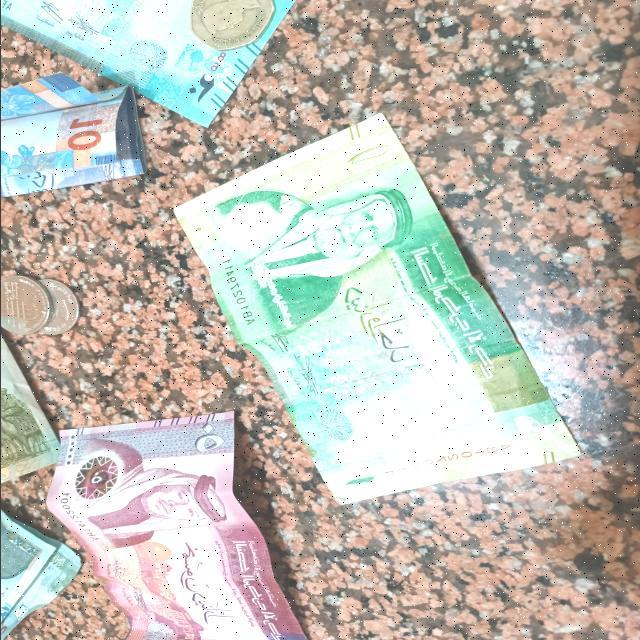1-dinar: (170, 104, 580, 502), (0, 332, 62, 482)
10-coins: (0, 273, 54, 339)
10-dinar: (0, 75, 145, 201)
20-dinar: (0, 0, 300, 132), (0, 508, 83, 640)
5-coins: (44, 278, 78, 338)
50-dinar: (49, 411, 304, 640)
